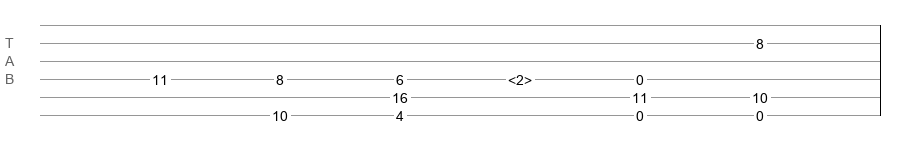0: (636, 108, 644, 118), (636, 72, 644, 82), (756, 108, 764, 118)
10: (272, 108, 288, 118), (752, 90, 768, 100)
11: (152, 72, 168, 82), (632, 90, 648, 100)
16: (392, 90, 408, 100)
4: (396, 108, 404, 118)
6: (396, 72, 404, 82)
8: (276, 72, 284, 82), (756, 36, 764, 46)
harmonic: (508, 72, 532, 82)
